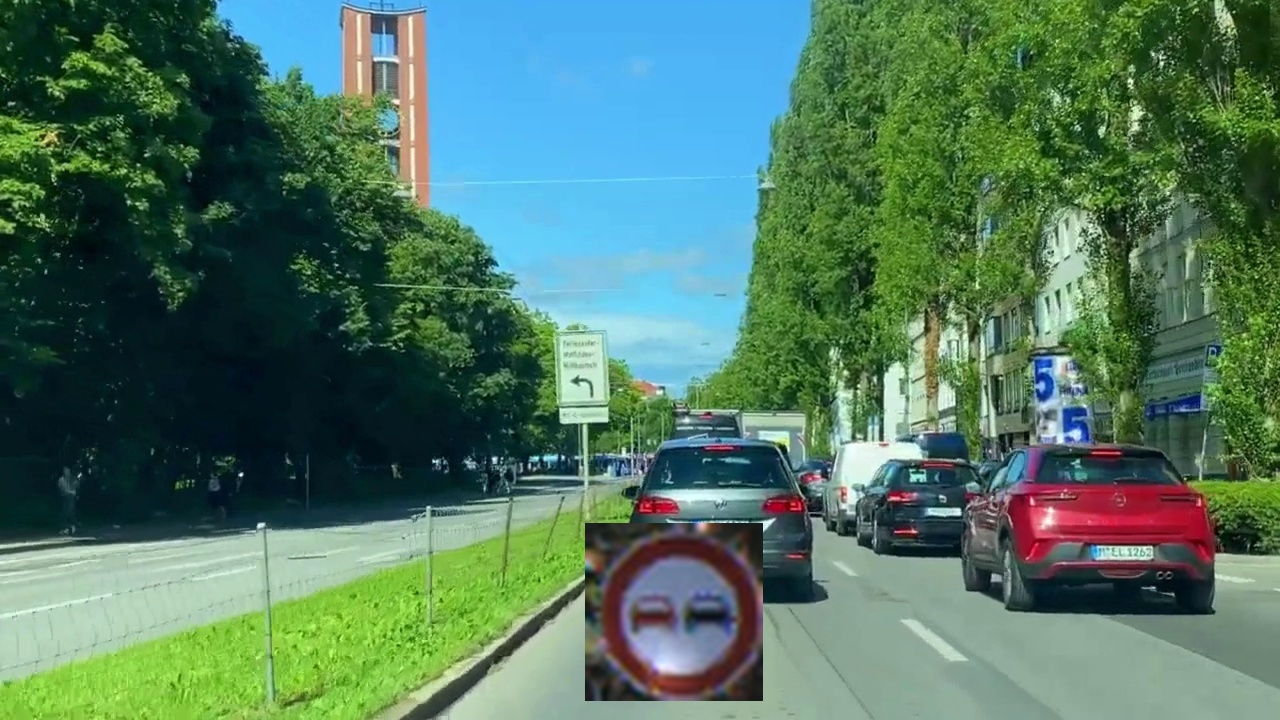No passing: (585, 523, 763, 701)
